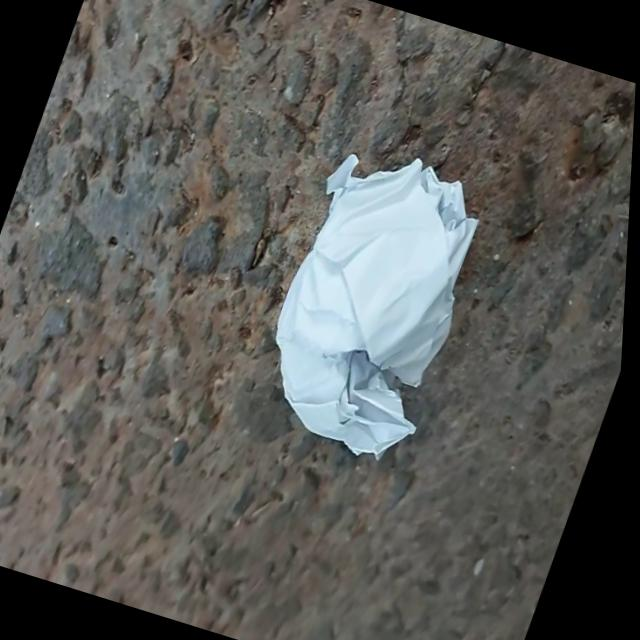paper: (277, 154, 477, 456)
